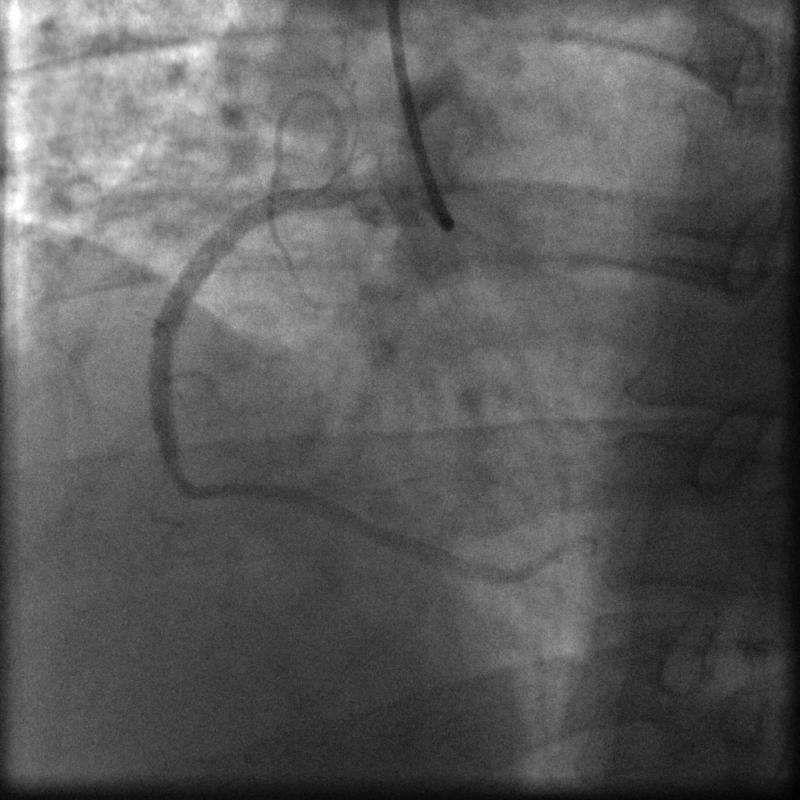Stenosis: (150, 431, 190, 494)
